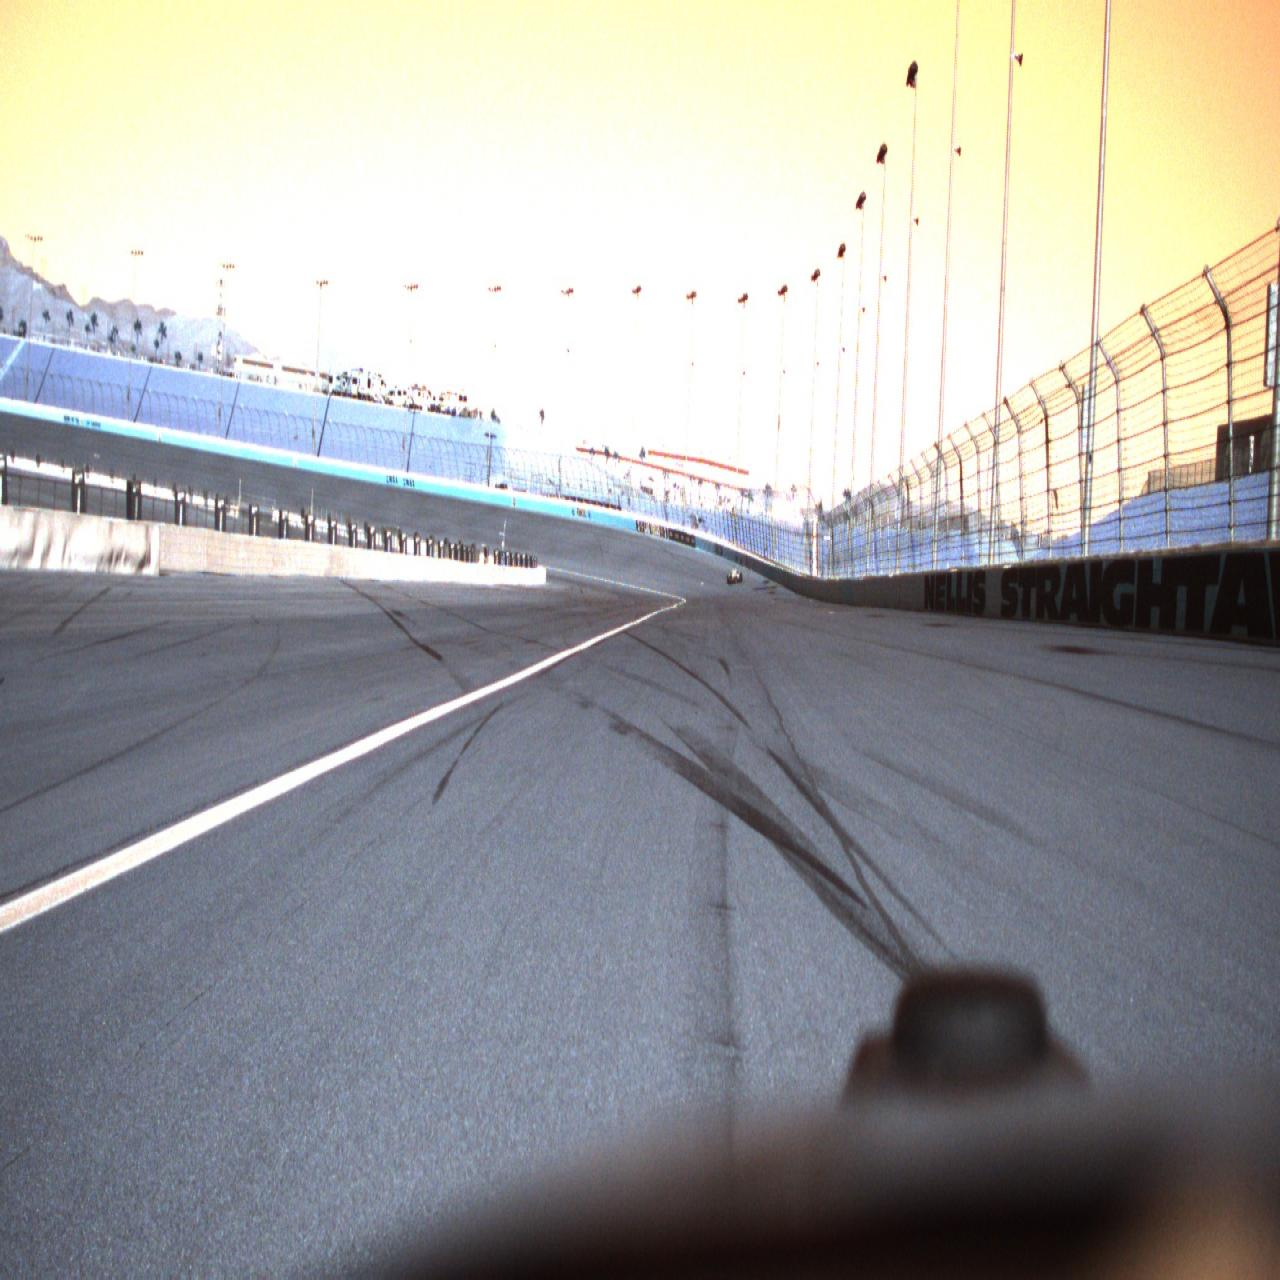AV: (726, 567, 742, 584)
Wheel: (729, 575, 732, 584), (740, 572, 742, 582), (726, 574, 728, 582)
